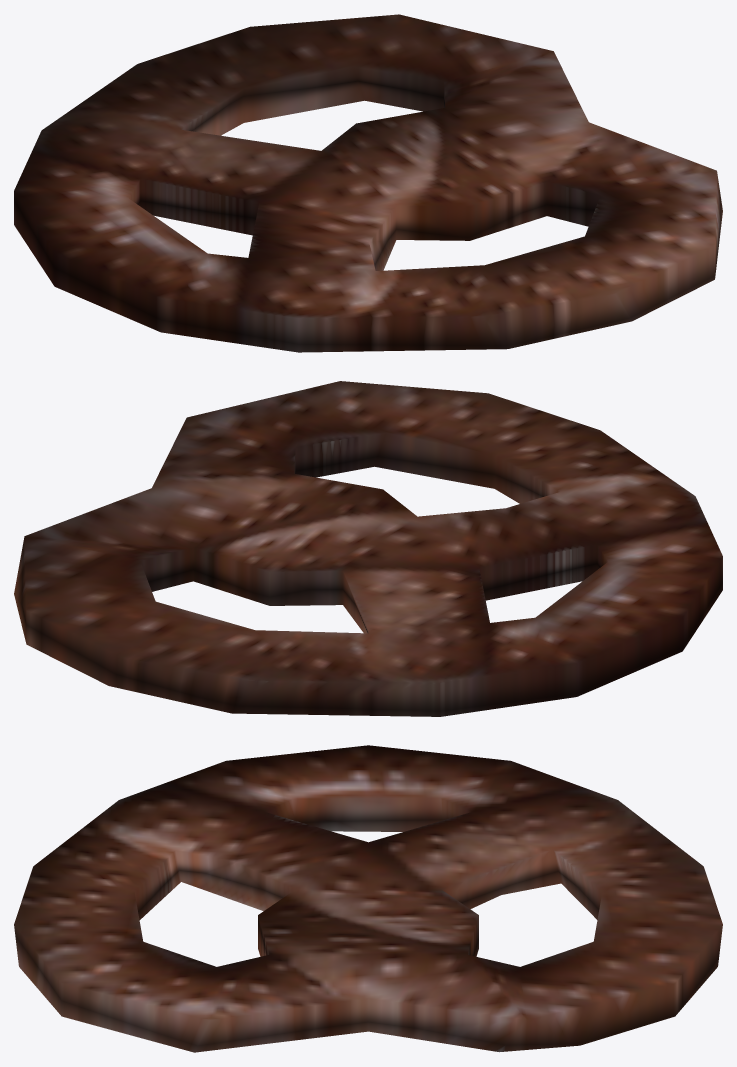
The model's file is WorldItem_CPretzel.fbx.
3 renders of one model, top to bottom at view 1: azimuth 30°, elevation 25°; view 2: azimuth 150°, elevation 25°; view 3: azimuth 270°, elevation 25°, orthographic. The views are drawn at different scales.
Parts seen in each view (by area): view 1: Vert.001; view 2: Vert.001; view 3: Vert.001.
Part boxes in pixels (bbox=[...]): Vert.001: bbox=[14, 14, 722, 352]; Vert.001: bbox=[14, 381, 722, 716]; Vert.001: bbox=[14, 745, 722, 1052].
Size of the model in its own units: 0.0338 by 0.0019 by 0.0368.
